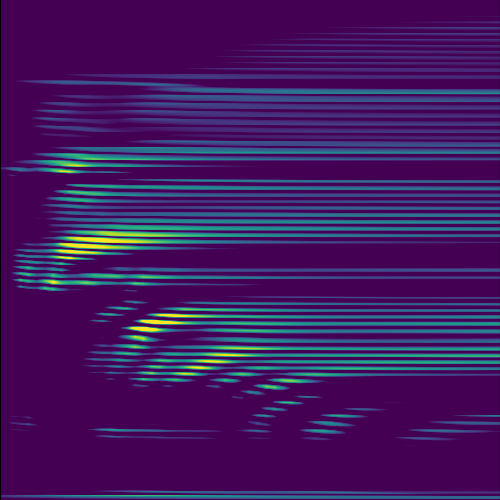semblance: (47, 222, 191, 266), (120, 304, 218, 351), (175, 341, 268, 381), (44, 143, 123, 179), (260, 372, 307, 393)
